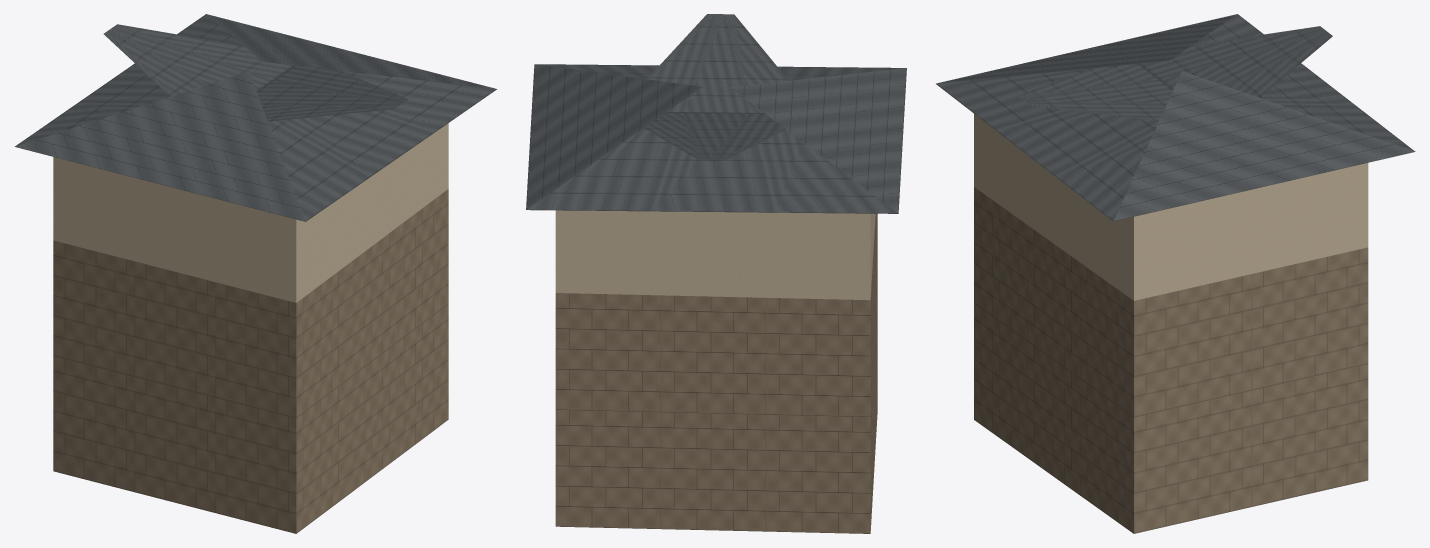
The model's file is bld_c17_12_526.gltf.
The picture shows the model from 3 angles, left to right: view 1: azimuth 30°, elevation 25°; view 2: azimuth 150°, elevation 25°; view 3: azimuth 270°, elevation 25°; orthographic projection.
Visible parts, largest first — view 1: bld_c17_12_526; view 2: bld_c17_12_526; view 3: bld_c17_12_526.
Boxes of the visible parts, left/top/right/bottom form: bld_c17_12_526: left=14, top=14, right=497, bottom=533; bld_c17_12_526: left=526, top=14, right=906, bottom=533; bld_c17_12_526: left=936, top=14, right=1415, bottom=533.
Bounding box in the file's own units: 8.59 × 7.4 × 8.4.
Materials: 3 (3 with a texture image).
